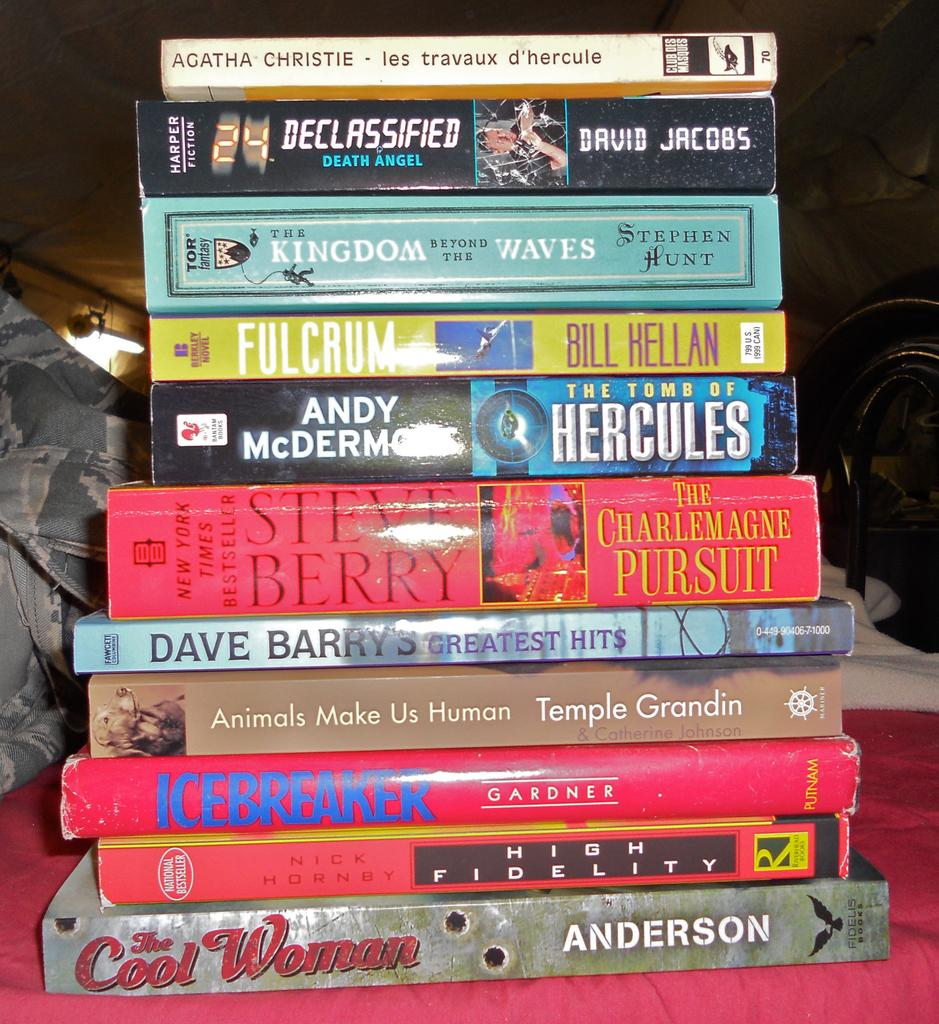book: (29, 895, 903, 998), (98, 483, 829, 604), (60, 744, 873, 840), (147, 378, 807, 492), (143, 196, 787, 310), (131, 92, 785, 204), (74, 591, 855, 676), (86, 669, 842, 742), (88, 829, 866, 898), (152, 308, 789, 378), (156, 34, 782, 93)
